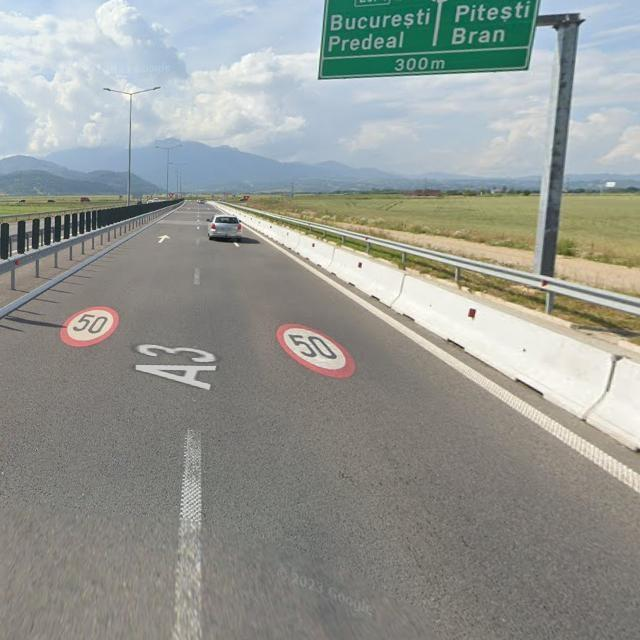forb_speed_over_50: (277, 323, 357, 378), (59, 304, 119, 345)
